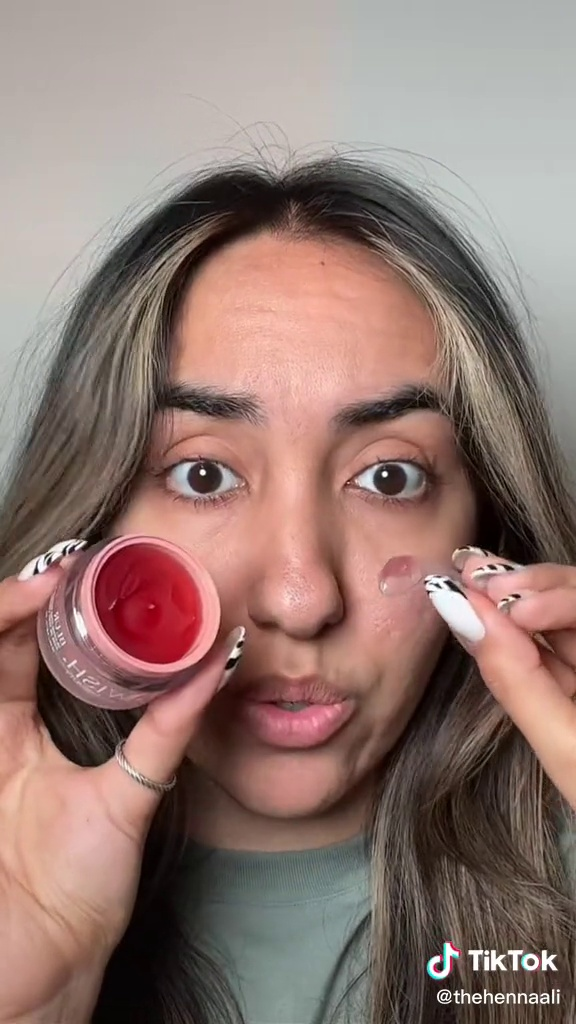train' :'yolo_data/train/images',: (32, 526, 233, 720)
